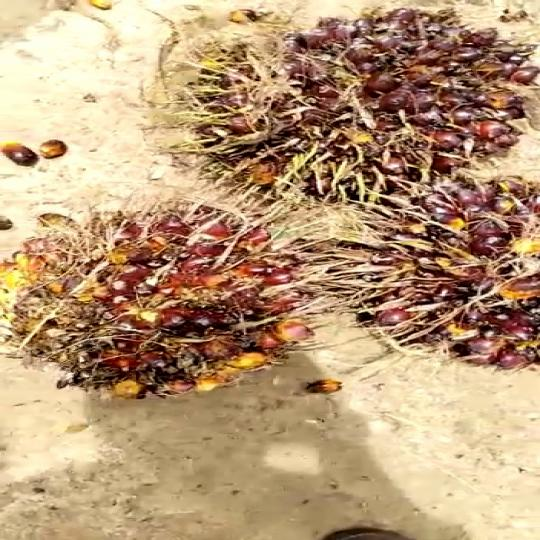masak: (133, 9, 540, 212), (0, 191, 331, 410), (322, 170, 540, 383)
